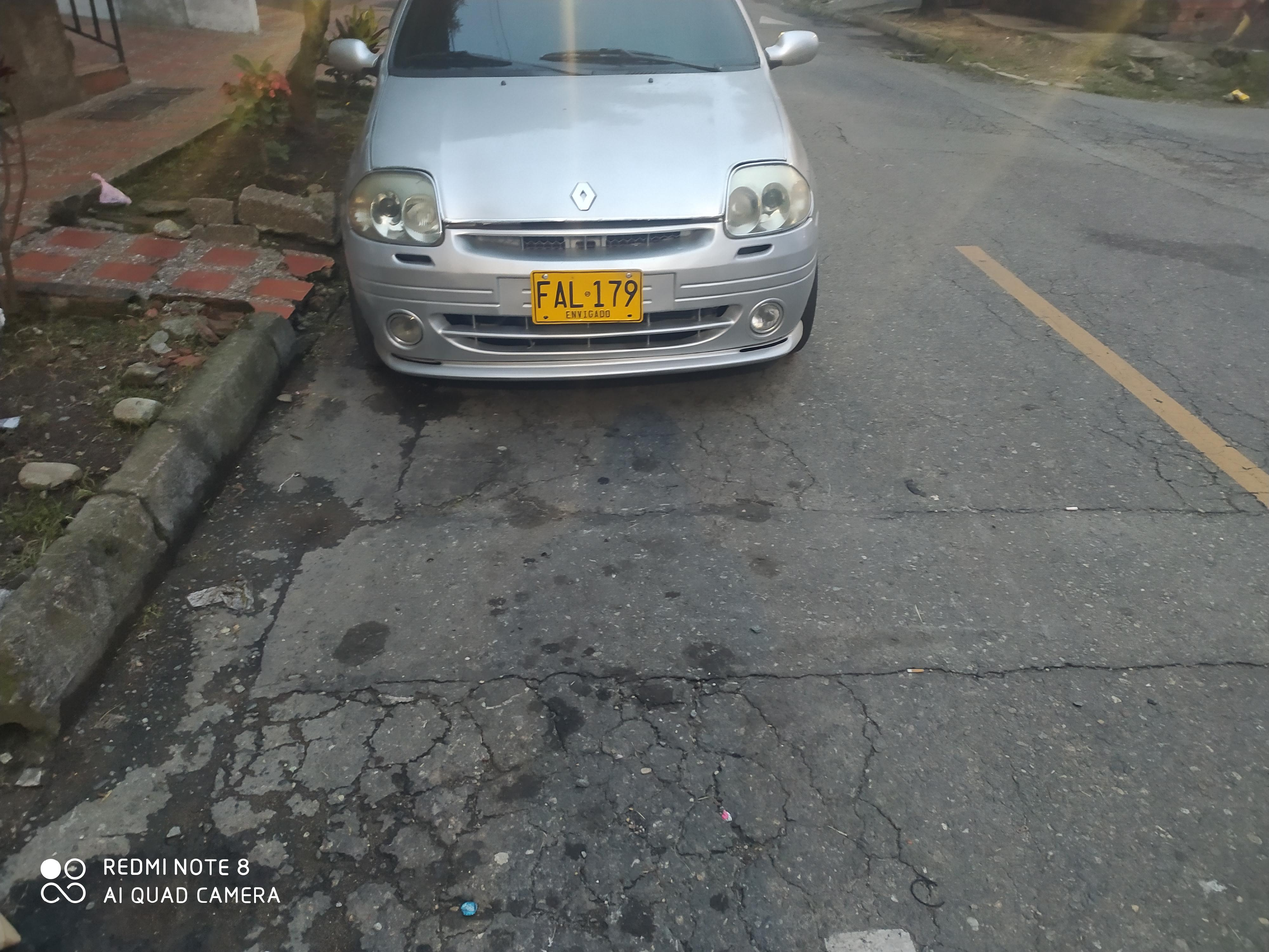placa: (526, 264, 650, 331)
